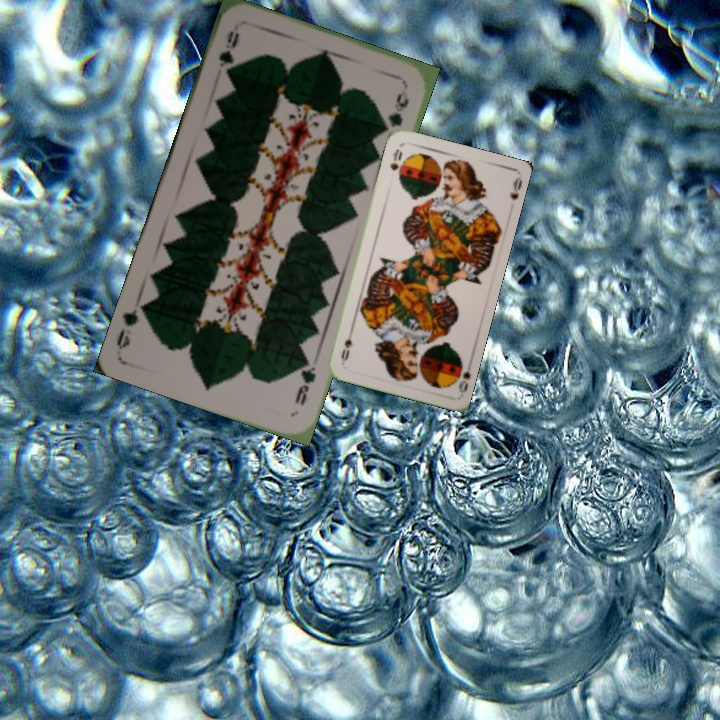G9: (290, 355, 319, 409), (214, 26, 242, 80)
SO: (450, 354, 471, 395), (386, 145, 405, 177)
